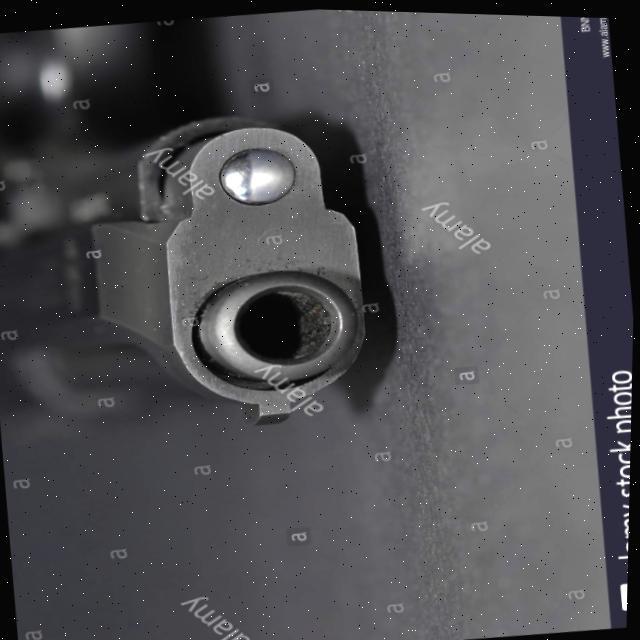pistol: (0, 0, 386, 457)
